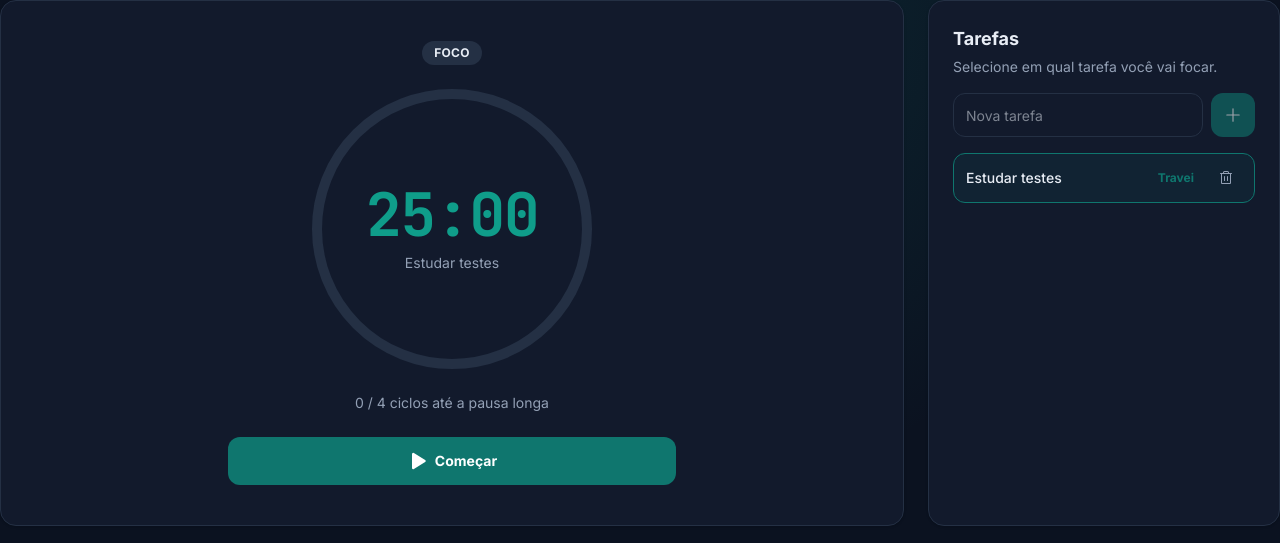
Scenario: Home › selects a task and starts the timer with a title snapshot
Click the button "Começar" at (452, 461), box [228,437,676,485]
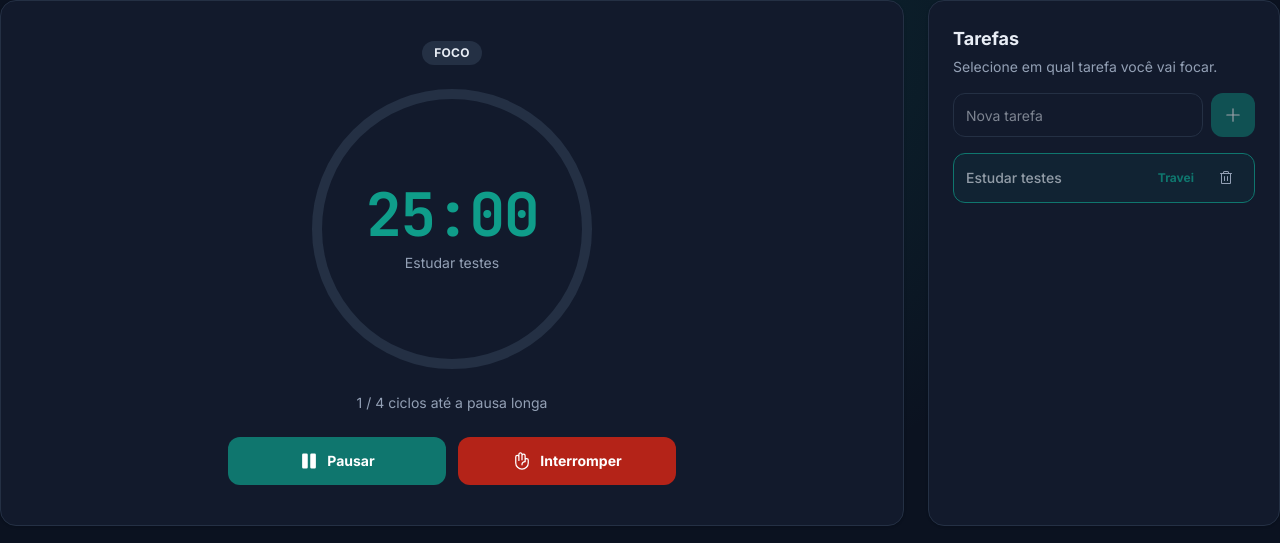
Expected: the text "Estudar testes" is shown, [405,253,499,273]
Expected: the button "Pausar" is shown, [228,437,446,485]
